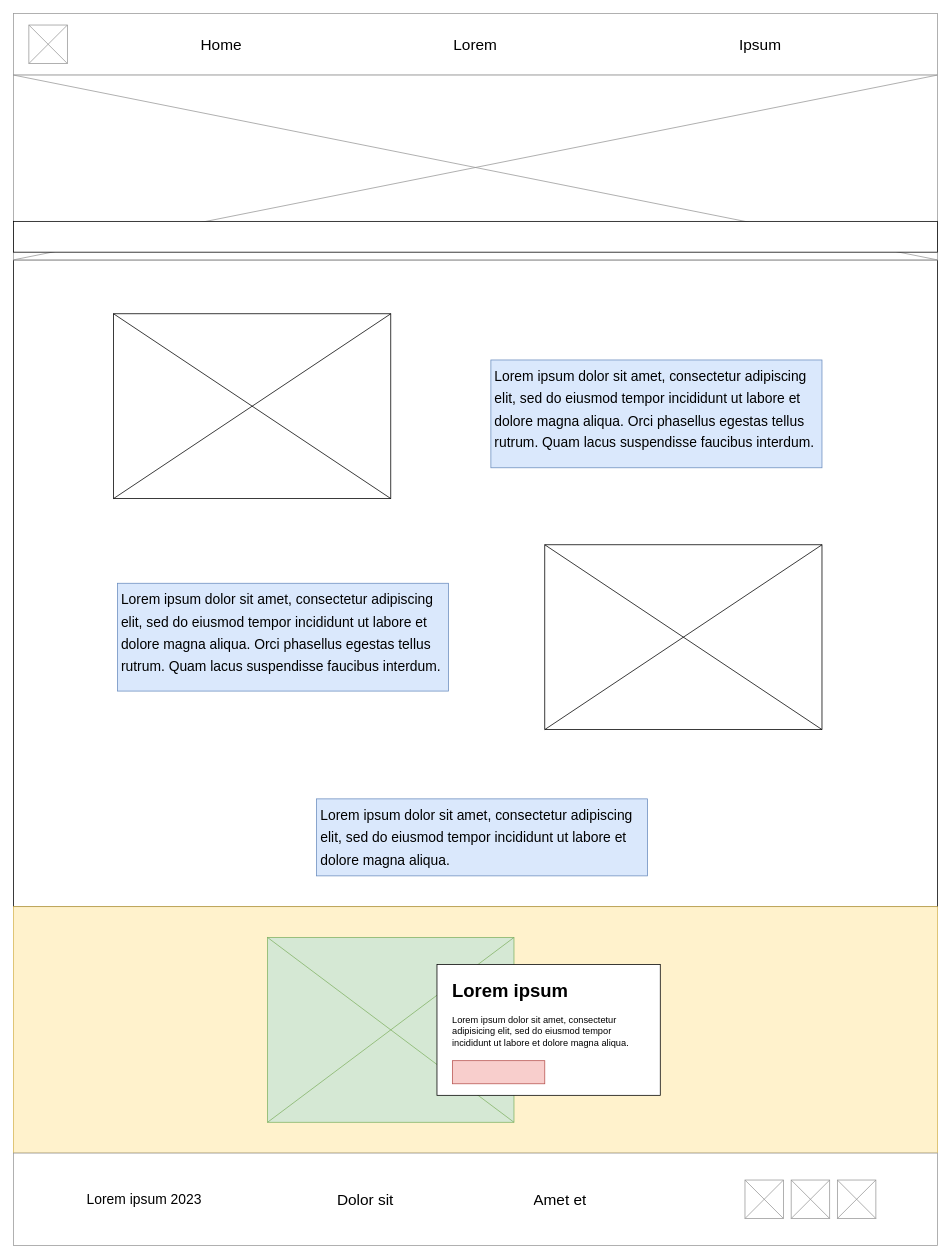
Image size: 951x1259. Some labels were removed from this diagram. Each missing label, with the centre of its shape:
"Check this out" goes at (x=498, y=1072).
"Lorem ipsum dolor sit amet" goes at (x=475, y=236).
